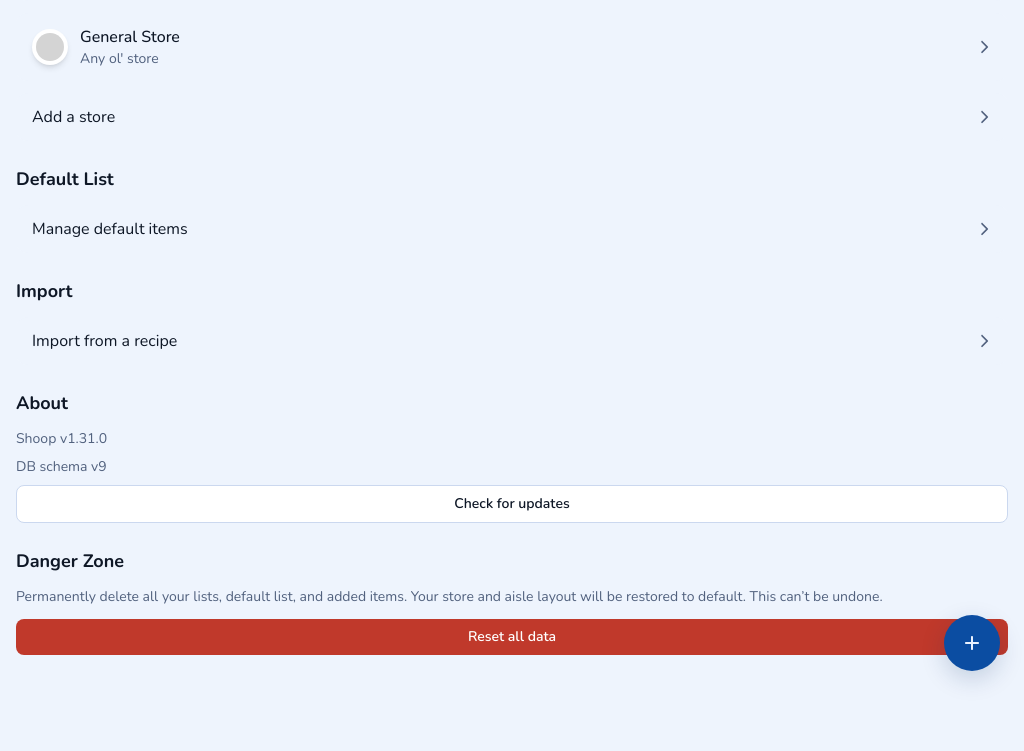
Test: SettingsRoute › clicking Reset all data opens the confirm dialog without resetting
(page scrolled)
What coordinates should you click on to do the following:
click the button "Reset all data"
I would click on:
 (512, 637)
Its box is [16, 619, 1008, 655].
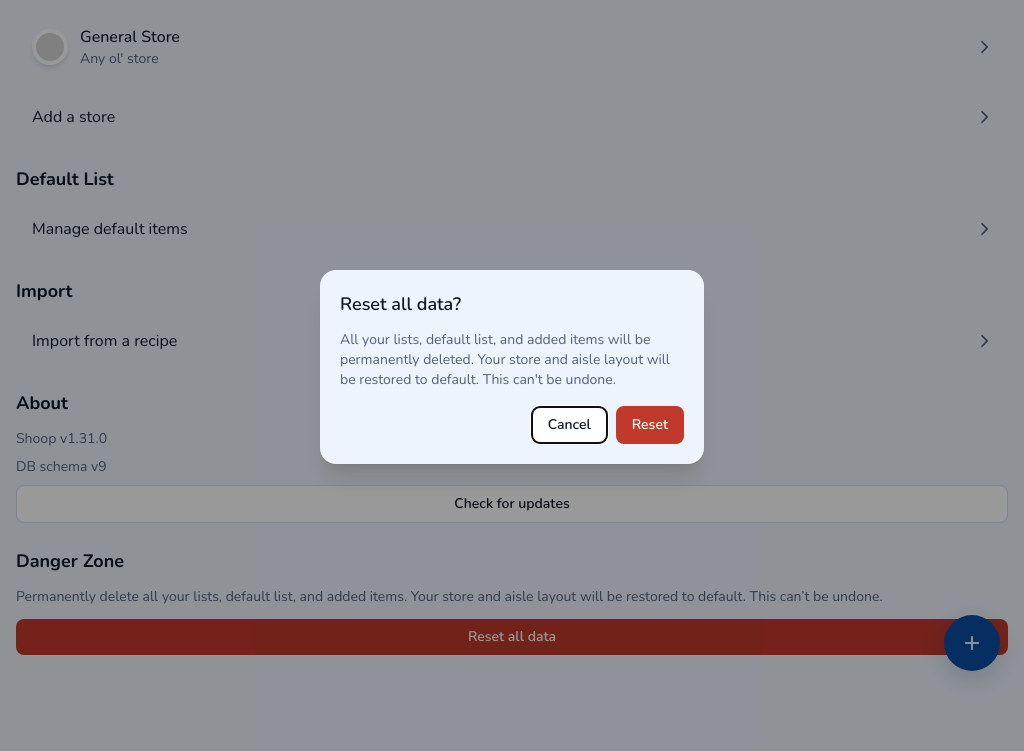
Expected: the dialog "Reset all data?" is shown, [320, 270, 704, 464]
